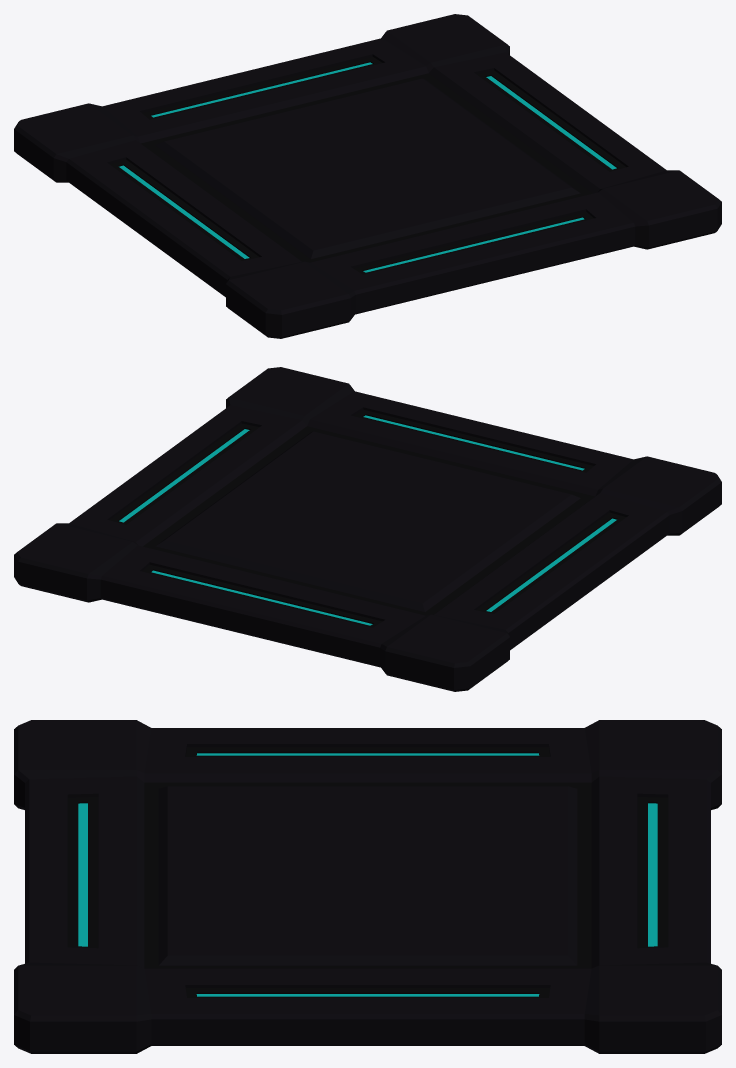
Rendered from SM_Floor_Light_01.obj.
The picture shows the model from 3 angles, top to bottom: view 1: azimuth 30°, elevation 25°; view 2: azimuth 150°, elevation 25°; view 3: azimuth 270°, elevation 25°; orthographic projection. The views are drawn at different scales.
Visible parts, largest first — view 1: SM_Sol_Light; view 2: SM_Sol_Light; view 3: SM_Sol_Light.
Part boxes in pixels (x1=…): SM_Sol_Light: x1=14, y1=14, x2=721, y2=338; SM_Sol_Light: x1=14, y1=367, x2=721, y2=691; SM_Sol_Light: x1=14, y1=720, x2=721, y2=1053.
Size of the model in its own units: 1 by 0.0598 by 1.
